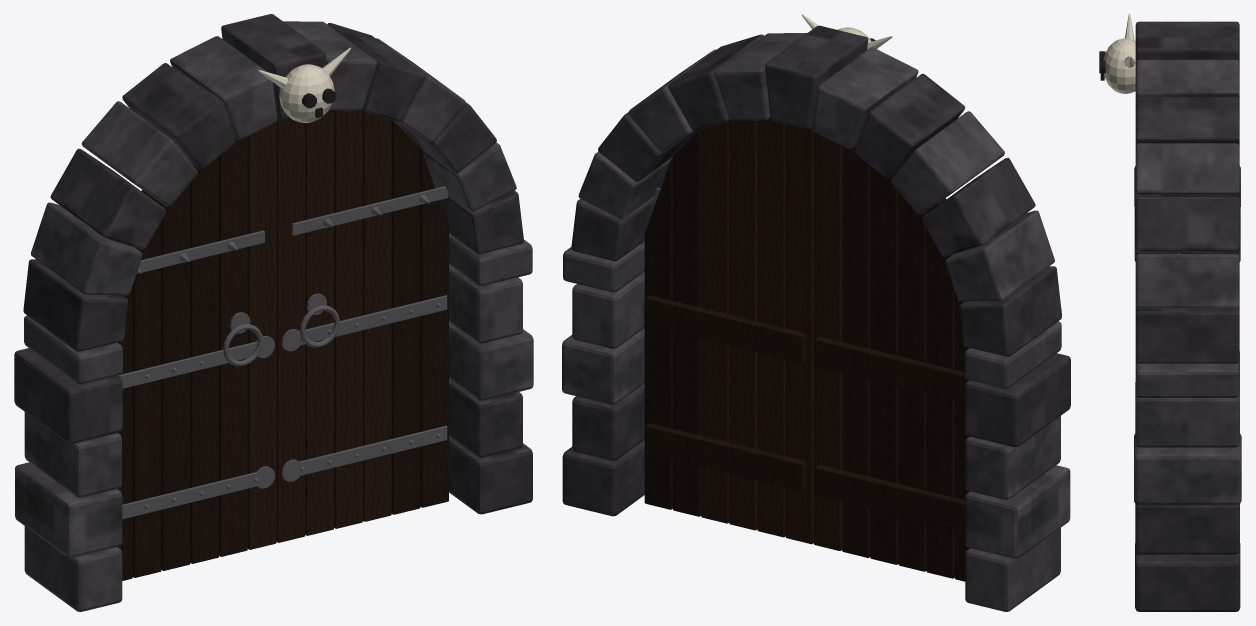
The model's file is boss.glb.
3 views of the same model, side by side, from view 1: azimuth 30°, elevation 25°; view 2: azimuth 150°, elevation 25°; view 3: azimuth 270°, elevation 25° (orthographic). The views are drawn at different scales.
Parts seen in each view (by area): view 1: boss_cadre, boss_battant_d, boss_battant_g; view 2: boss_cadre, boss_battant_d, boss_battant_g; view 3: boss_cadre.
Part boxes in pixels (x1,y1,x2,y2): boss_cadre: (14, 14, 533, 611); boss_battant_d: (276, 109, 448, 542); boss_battant_g: (117, 122, 276, 580); boss_cadre: (562, 14, 1070, 611); boss_battant_d: (644, 118, 813, 544); boss_battant_g: (814, 132, 969, 581); boss_cadre: (1099, 14, 1241, 611).
Bounding box in the file's own units: 2.43 × 2.52 × 0.6842.
8 materials, 5 textured.
